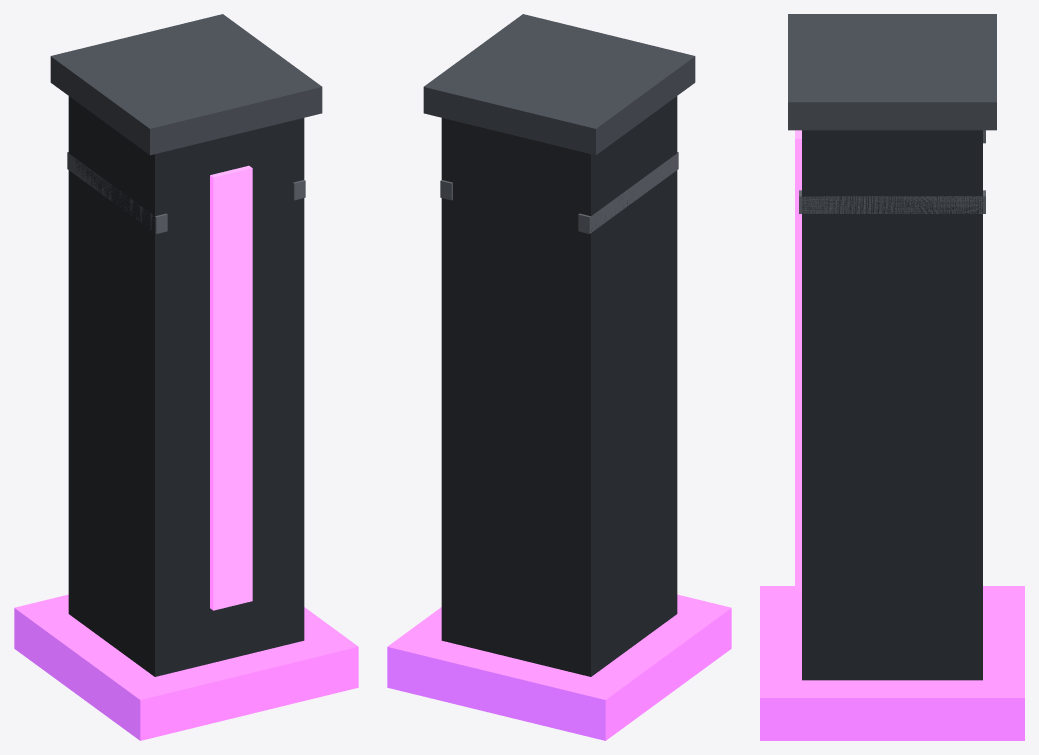
Rendered from Modle_Prop_Pillar.fbx.
3 views of the same model, side by side, from view 1: azimuth 30°, elevation 25°; view 2: azimuth 150°, elevation 25°; view 3: azimuth 270°, elevation 25° (orthographic). The views are drawn at different scales.
Visible parts, largest first — view 1: Modle_Prop_Pillar; view 2: Modle_Prop_Pillar; view 3: Modle_Prop_Pillar.
Part boxes in pixels (x1,y1,x2,y2): Modle_Prop_Pillar: (14, 14, 358, 740); Modle_Prop_Pillar: (387, 14, 731, 740); Modle_Prop_Pillar: (760, 14, 1024, 740).
Size of the model in its own units: 1.9 by 4.96 by 1.9.
